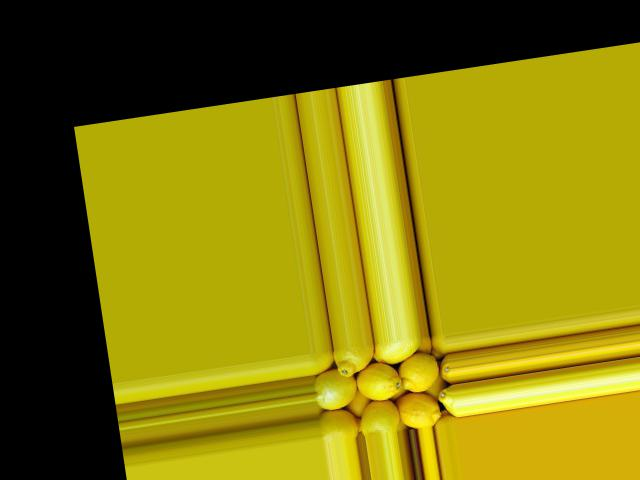lemon: (308, 352, 334, 376)
